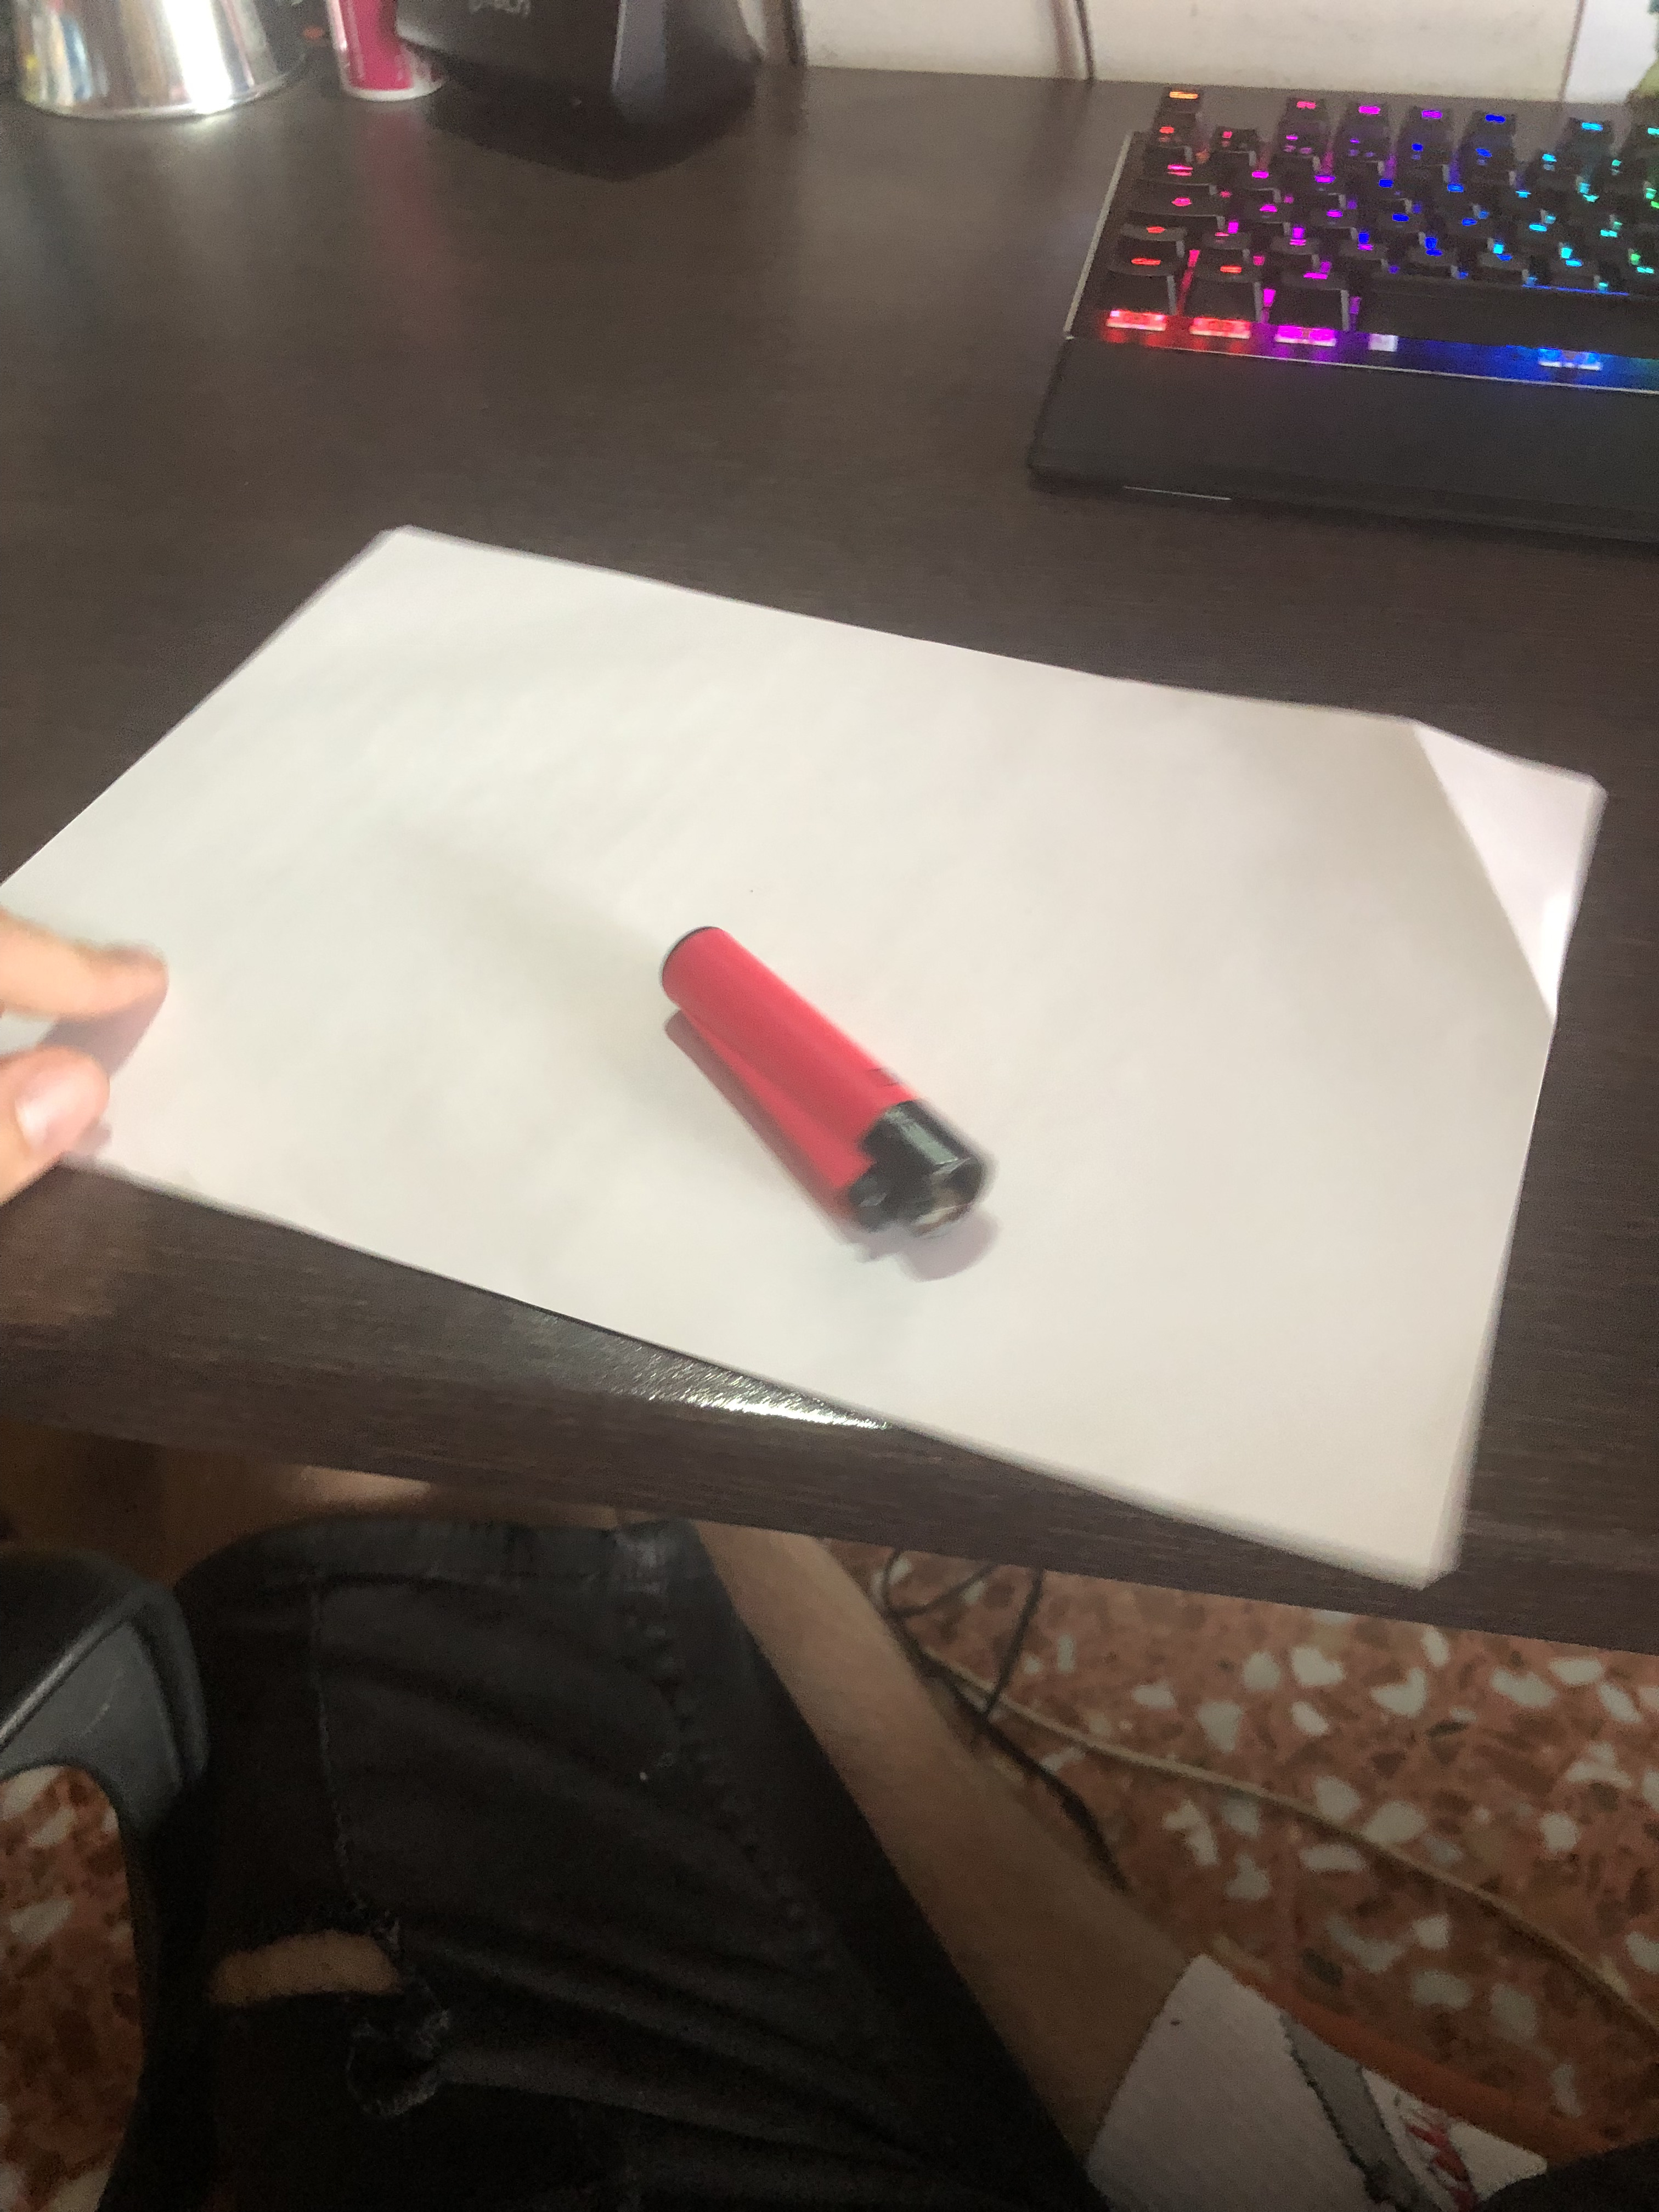Mechero: (638, 925, 1039, 1284)
